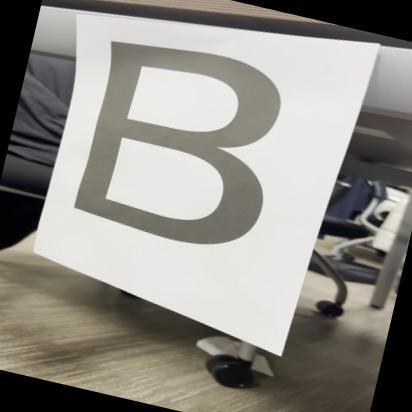seat: (46, 28, 324, 280)
